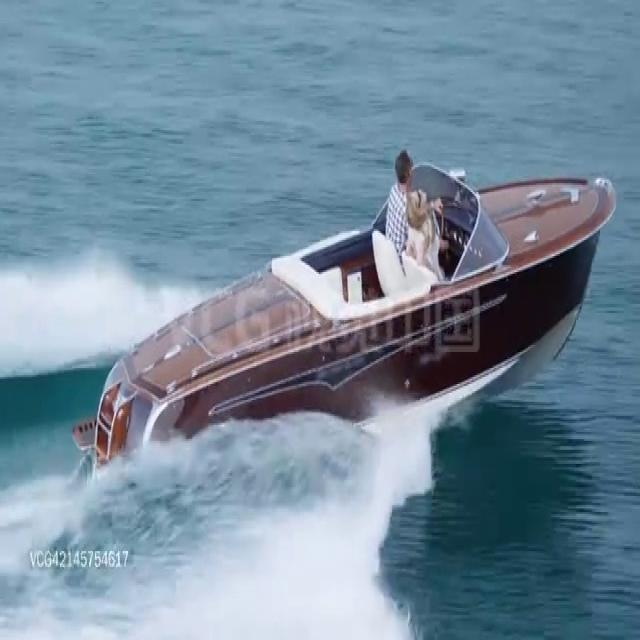houseboat: (78, 142, 611, 482)
